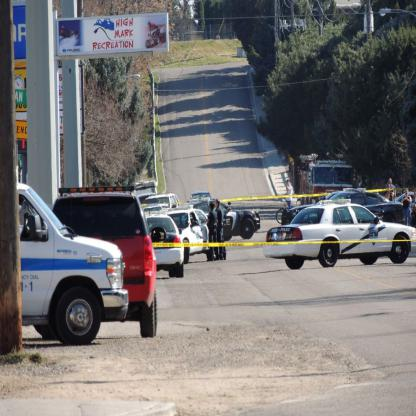Car: (15, 178, 131, 350), (52, 182, 158, 335), (264, 198, 415, 269), (147, 196, 207, 281), (326, 190, 407, 223)
